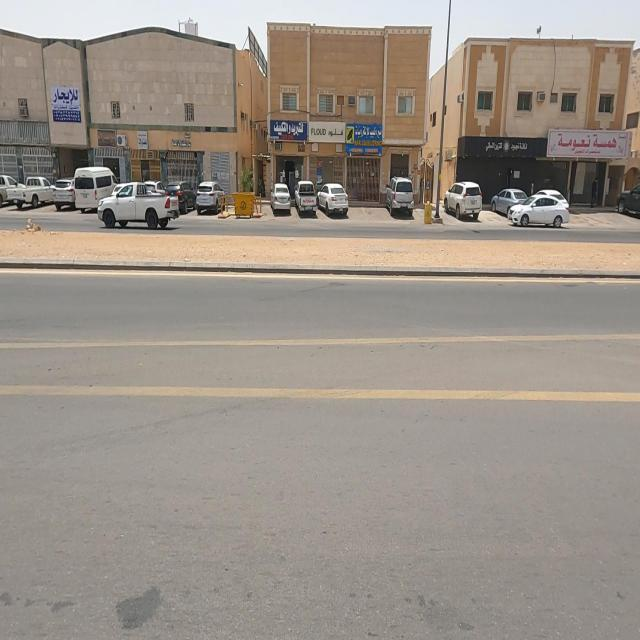debris: (84, 110, 128, 164)
